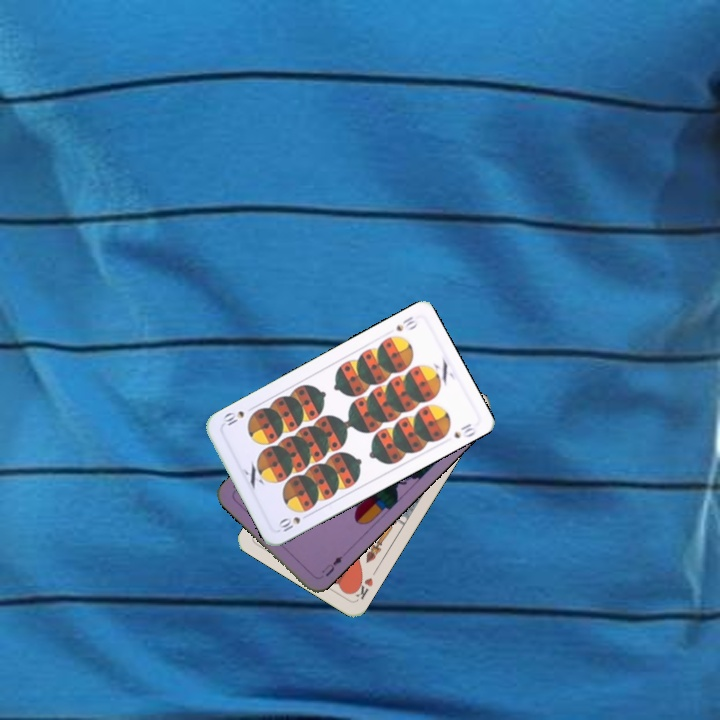EU: (317, 552, 345, 580)
HK: (348, 573, 376, 602)
S10: (274, 509, 313, 535), (392, 312, 420, 334)
